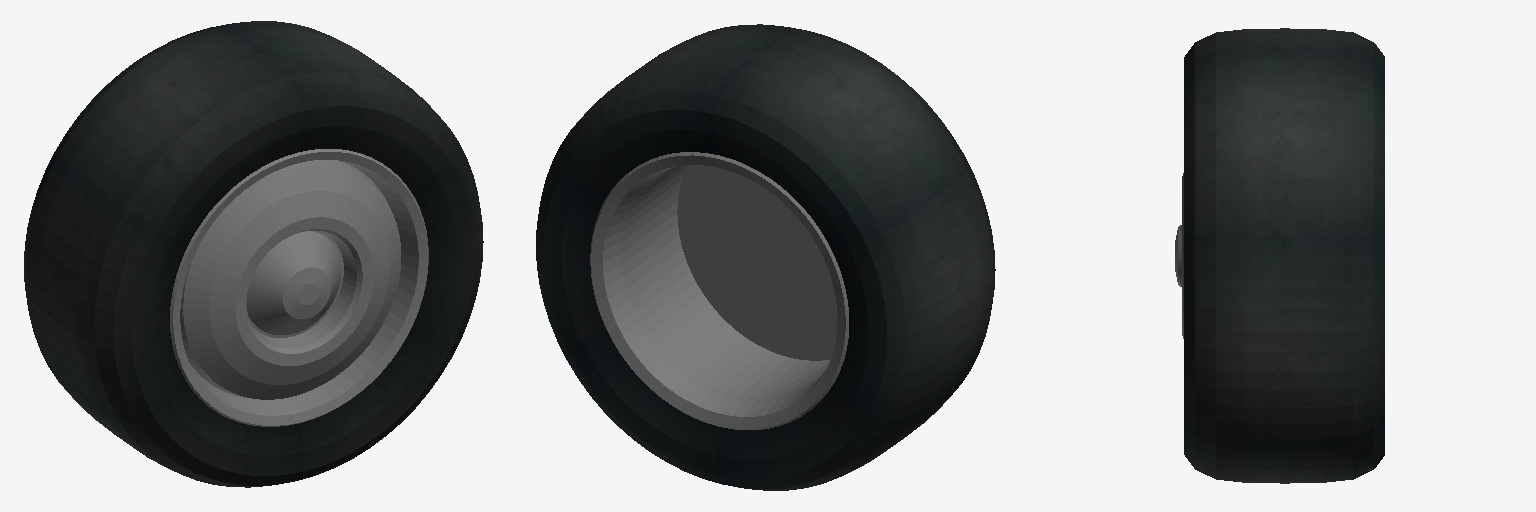
The picture shows the model from 3 angles: view 1: azimuth 30°, elevation 25°; view 2: azimuth 150°, elevation 25°; view 3: azimuth 270°, elevation 25°; orthographic projection.
Parts seen in each view (by area): view 1: Caucho_Derecho, Llanta_Derecha; view 2: Caucho_Derecho, Llanta_Derecha; view 3: Caucho_Derecho, Llanta_Derecha.
Part boxes in pixels (bbox=[...]): Caucho_Derecho: bbox=[24, 21, 483, 487]; Llanta_Derecha: bbox=[170, 149, 428, 426]; Caucho_Derecho: bbox=[536, 24, 995, 490]; Llanta_Derecha: bbox=[590, 152, 848, 429]; Caucho_Derecho: bbox=[1184, 28, 1384, 483]; Llanta_Derecha: bbox=[1175, 173, 1183, 338].
Size of the model in its own units: 5.98 by 5.98 by 2.77.
2 materials, 1 textured.